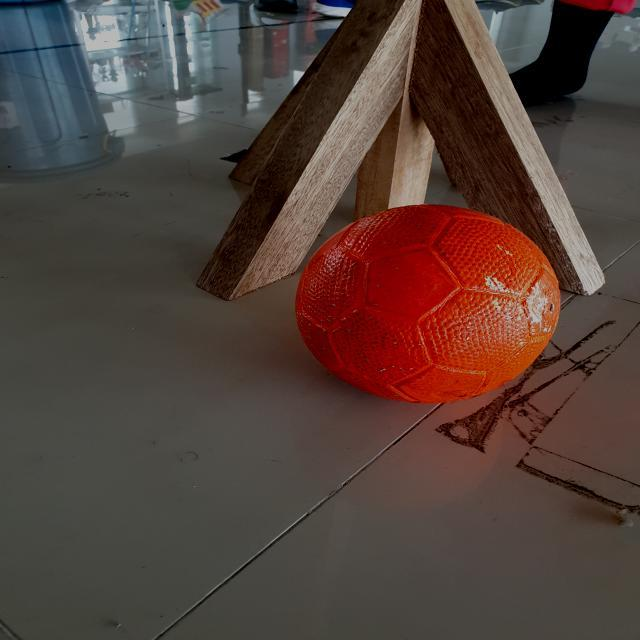bola: (289, 194, 577, 416)
